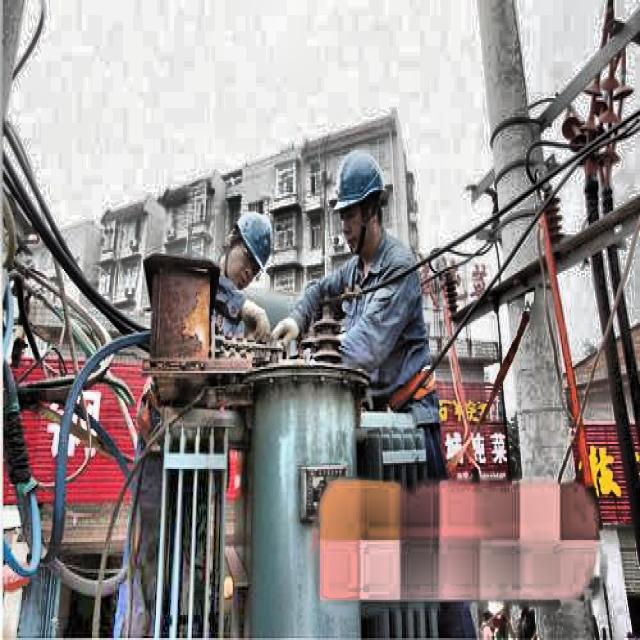helmet: (329, 144, 390, 260), (226, 206, 276, 290)
